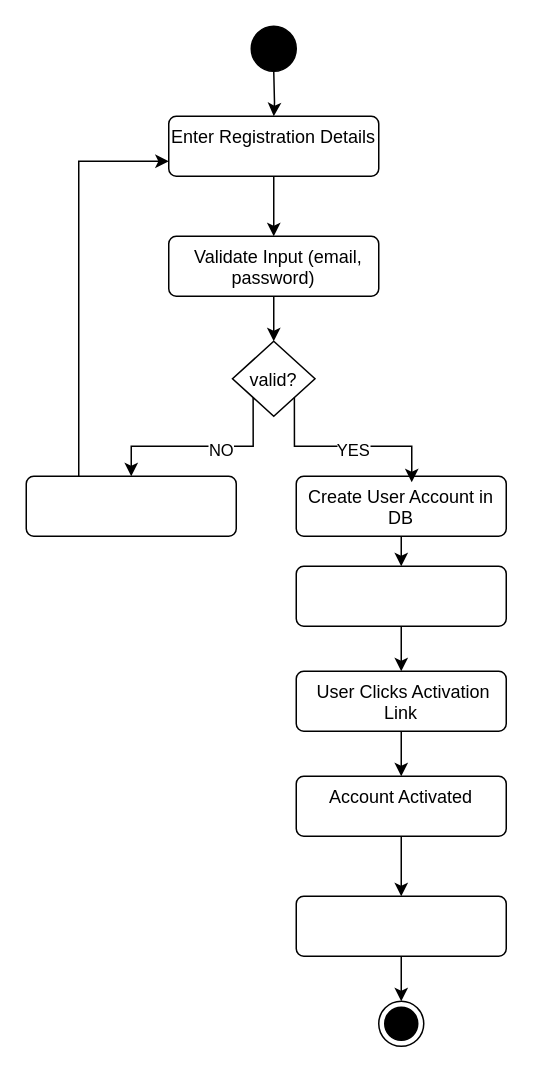
Image size: 533x1073. Some labels were removed from this diagram. The centre of each missing label's shape, as x and y in pixels:
"Redirect to Login Page" goes at point 400,925.
"Send Confirmation Email" goes at point 400,595.
"Show error Message" goes at point 130,505.
